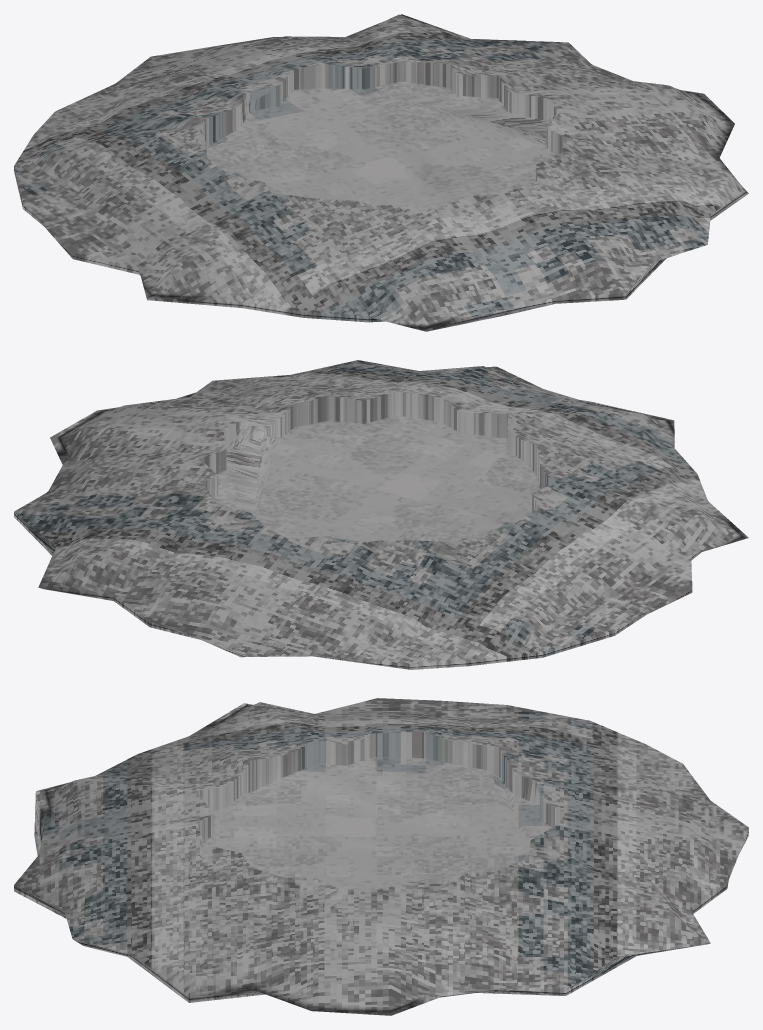
Rendered from spiderSpawn.fbx.
3 views of the same model, one above another, from view 1: azimuth 30°, elevation 25°; view 2: azimuth 150°, elevation 25°; view 3: azimuth 270°, elevation 25° (orthographic). The views are drawn at different scales.
Parts seen in each view (by area): view 1: Cylinder; view 2: Cylinder; view 3: Cylinder.
Boxes of the visible parts, x1=… form: Cylinder: x1=14, y1=14, x2=748, y2=331; Cylinder: x1=14, y1=360, x2=748, y2=669; Cylinder: x1=14, y1=698, x2=748, y2=1015.
Bounding box in the file's own units: 292 × 26.1 × 286.
